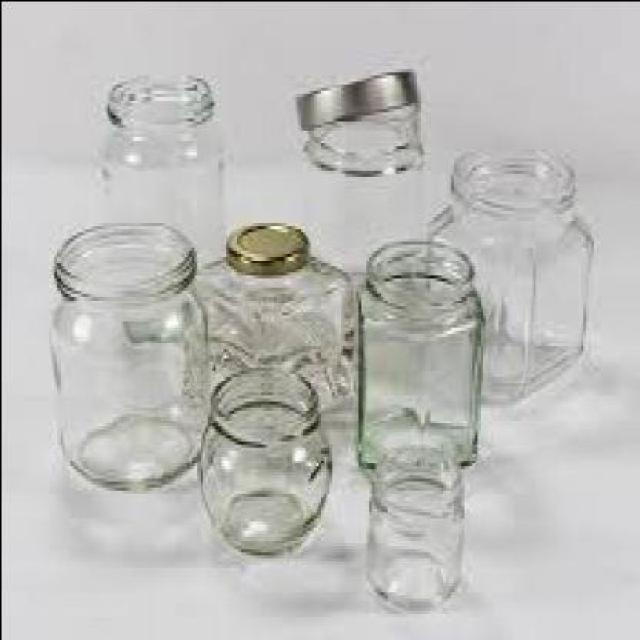GLASS: (50, 218, 208, 490), (432, 138, 594, 397), (360, 237, 486, 468), (188, 246, 360, 412), (201, 363, 333, 548), (100, 70, 225, 262), (304, 98, 421, 271), (370, 443, 465, 609)
METAL: (299, 68, 421, 123), (230, 222, 310, 270)
